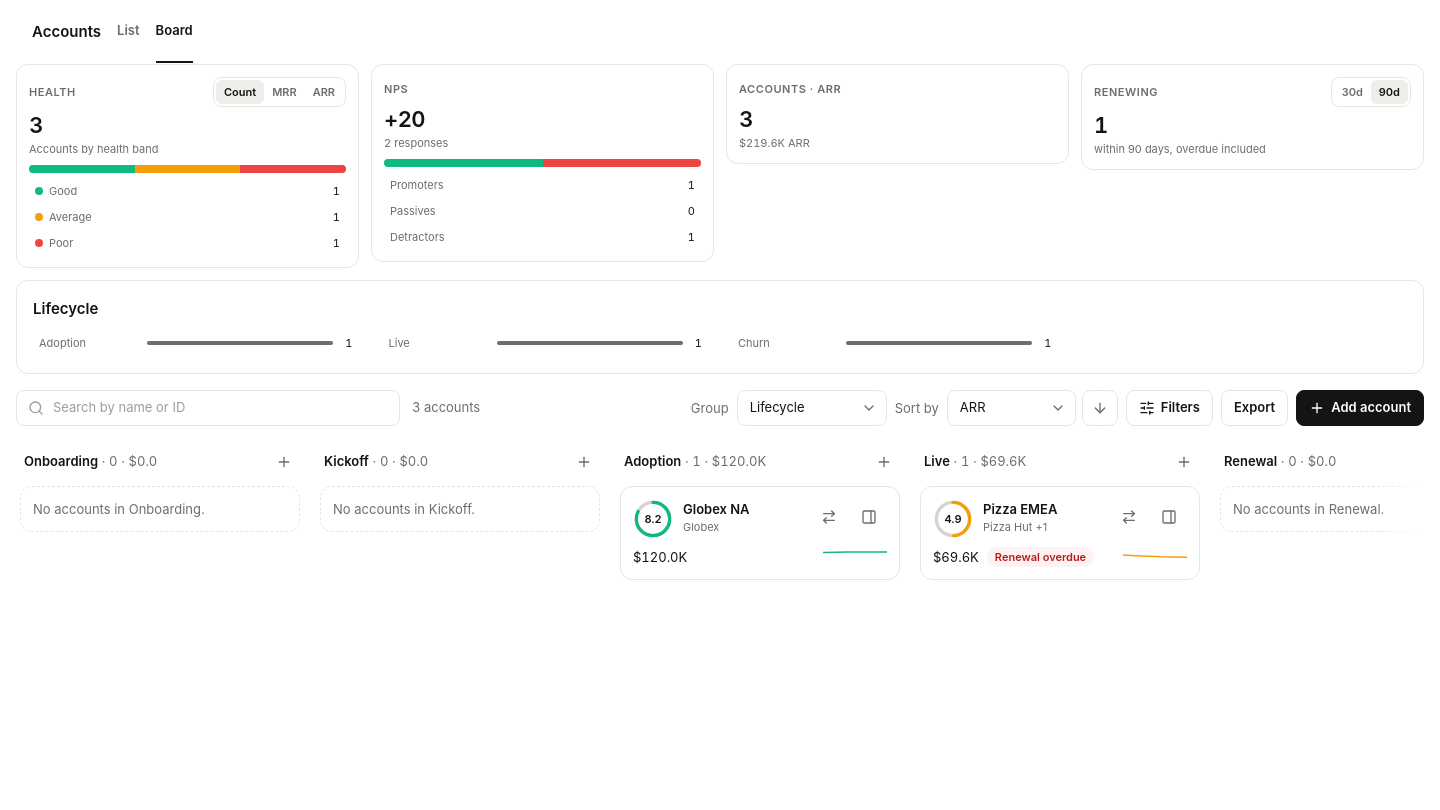
Accounts board (portfolio) › moves a card with Move to…, saving it through the account update
The width and height of the screenshot is (1440, 810).
Expected: the link "Pizza EMEA" is shown, left=983, top=501, right=1057, bottom=517
Expected: the text "Pizza Hut +1" is shown, left=983, top=520, right=1047, bottom=534
Click the button named "Move Pizza EMEA to…". click: x=1129, y=517
box: left=1111, top=499, right=1147, bottom=535
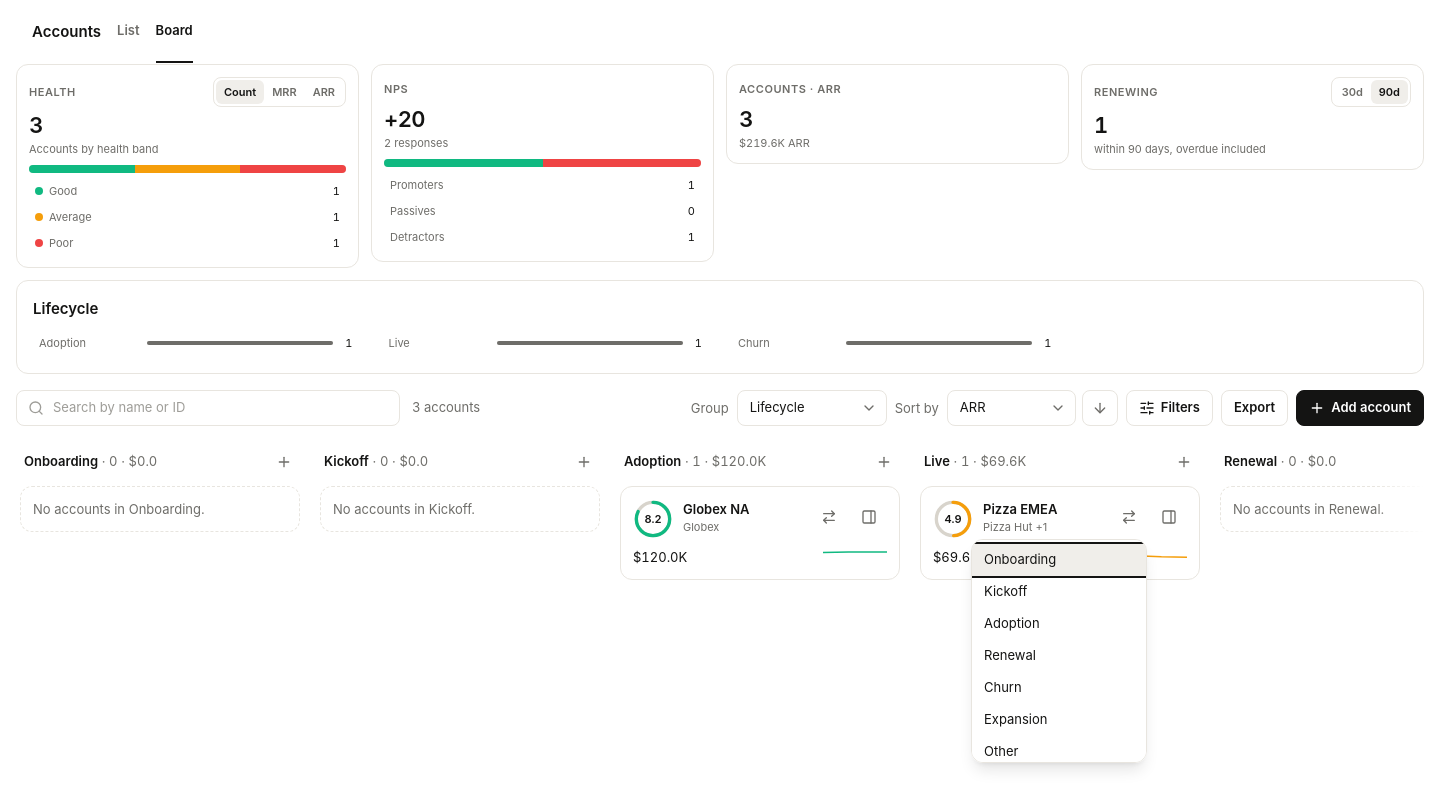
Click the menu item "Adoption". click: x=1059, y=624
box: left=972, top=608, right=1146, bottom=640
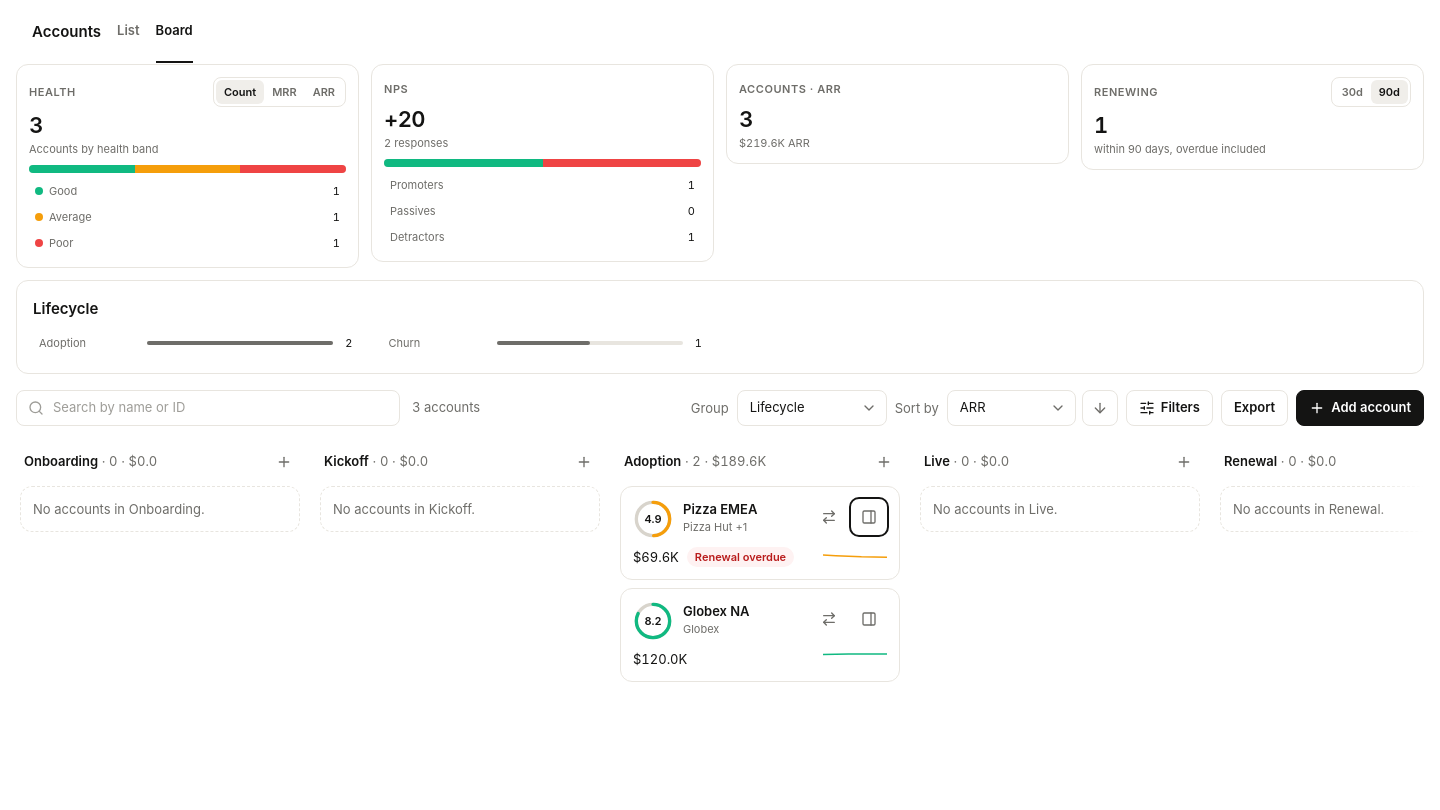
Expected: the list item "4.9 Pizza EMEA Pizza Hut +1 $69.6K Renewal overdue" is shown, left=620, top=486, right=900, bottom=580
Expected: the heading "Adoption · 2 · $189.6K" is shown, left=624, top=453, right=766, bottom=469
